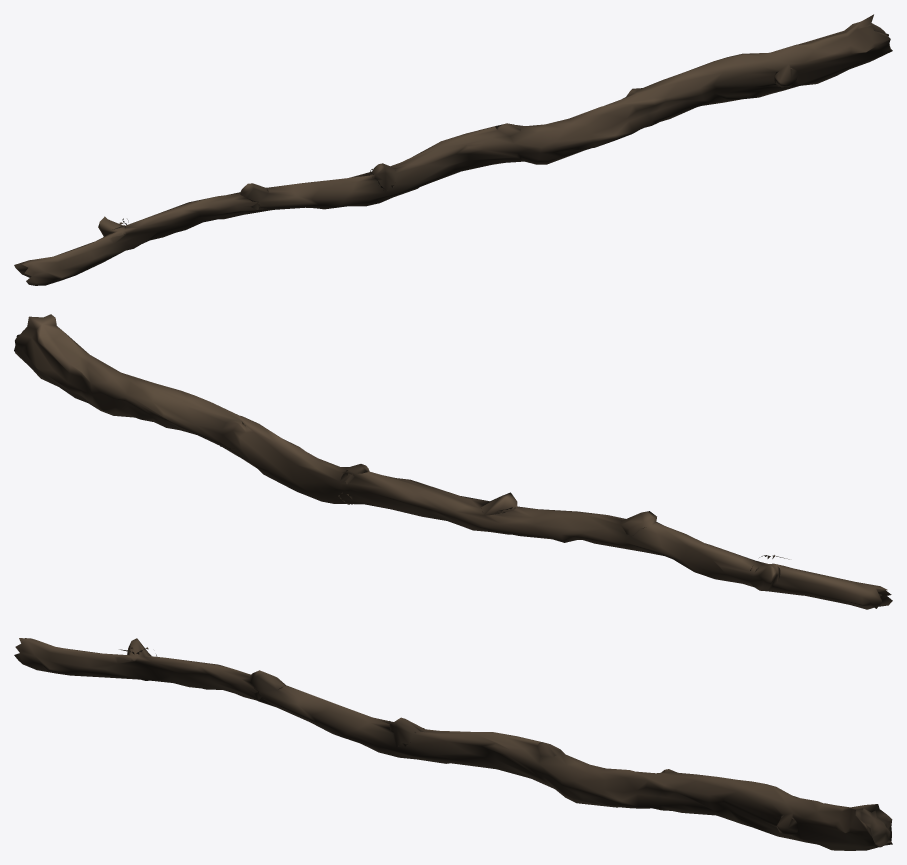
3 views of the same model, one above another, from view 1: azimuth 30°, elevation 25°; view 2: azimuth 150°, elevation 25°; view 3: azimuth 330°, elevation 25° (orthographic). The views are drawn at different scales.
Visible parts, largest first — view 1: base7; view 2: base7; view 3: base7.
Boxes of the visible parts, <box> form: base7: <box>14,14,892,285</box>; base7: <box>14,314,892,609</box>; base7: <box>14,638,892,850</box>.
Size of the model in its own units: 0.5 by 0.049 by 0.0463.
